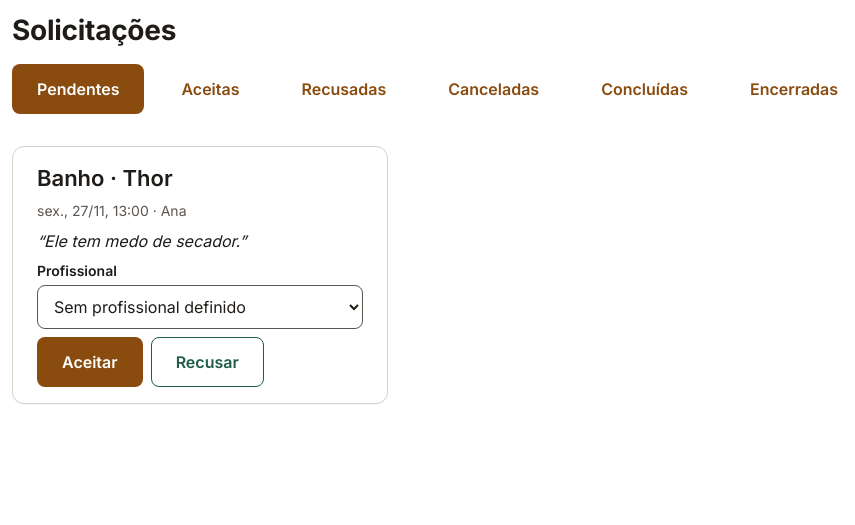
it: UC-41 · Solicitações pendentes na web › deve mostrar o conflito de agenda devolvido pela API
The width and height of the screenshot is (855, 525).
Click the button "Aceitar": click(90, 362) left=37, top=337, right=143, bottom=387
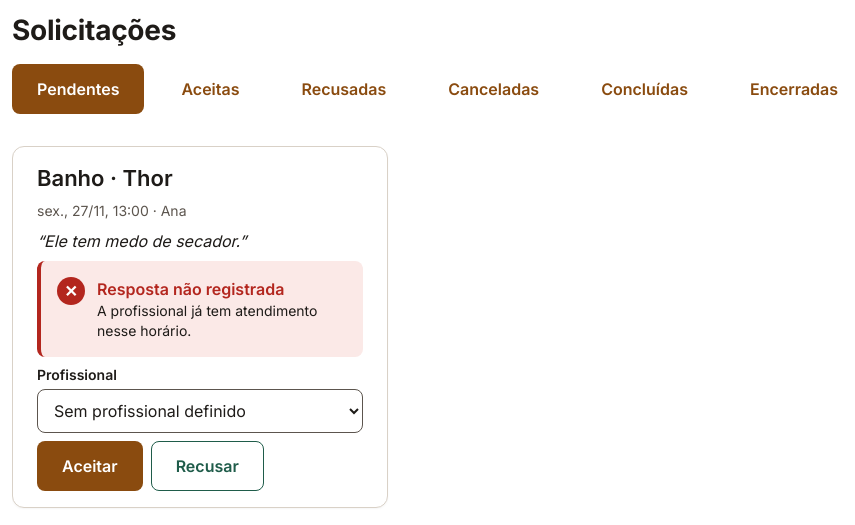
Expected: the text "A profissional já tem atendimento nesse horário." is shown, left=97, top=301, right=347, bottom=341
